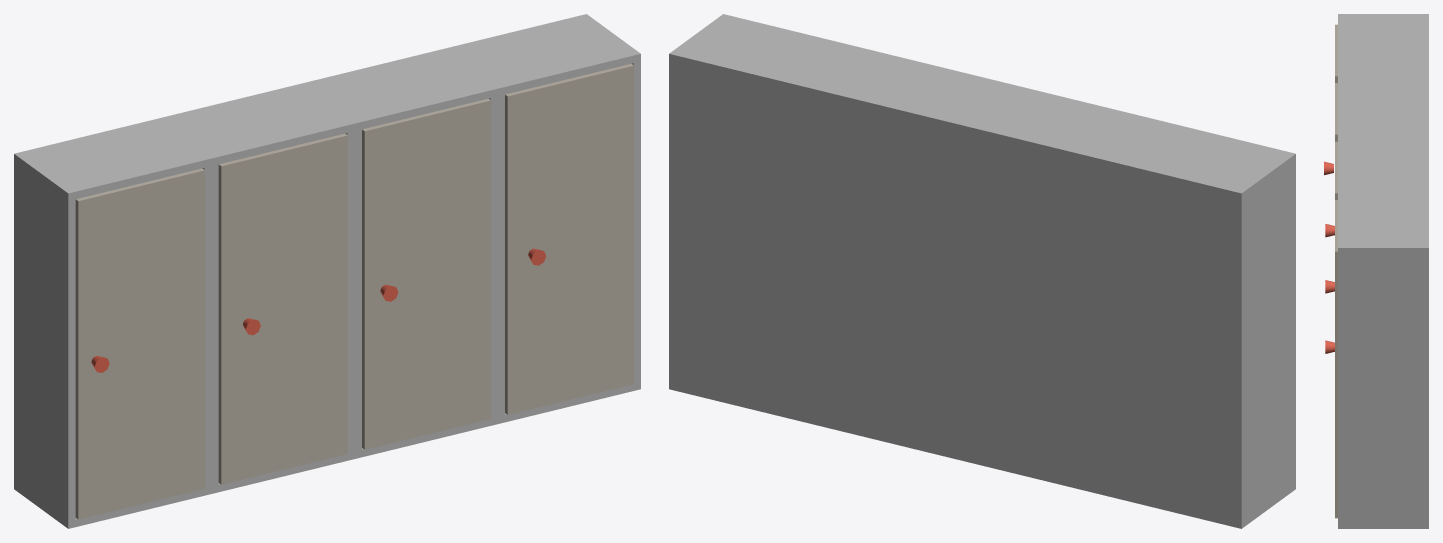
File: SM_Locker_01.fbx
3 views of the same model, side by side, from view 1: azimuth 30°, elevation 25°; view 2: azimuth 150°, elevation 25°; view 3: azimuth 270°, elevation 25° (orthographic). The views are drawn at different scales.
Visible parts, largest first — view 1: SM_Locker_01; view 2: SM_Locker_01; view 3: SM_Locker_01.
Part boxes in pixels (bbox=[...]): SM_Locker_01: bbox=[14, 14, 640, 528]; SM_Locker_01: bbox=[669, 14, 1295, 528]; SM_Locker_01: bbox=[1324, 14, 1428, 528].
Size of the model in its own units: 186 by 104 by 35.23.
